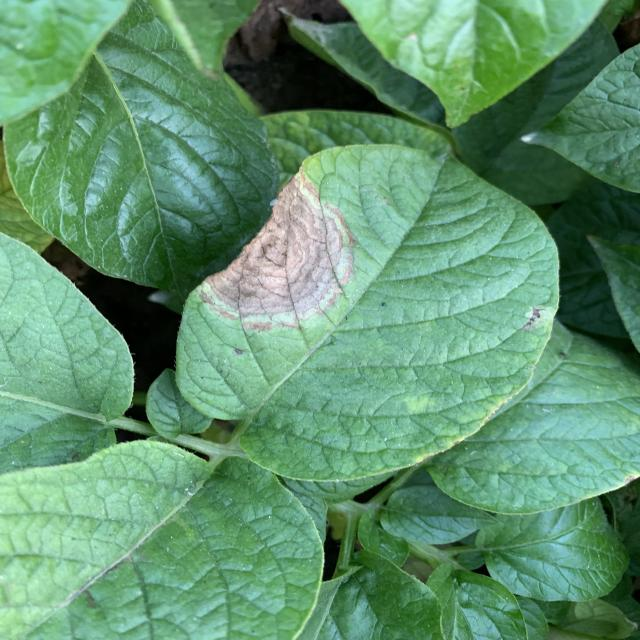lateblight: (188, 171, 353, 332)
